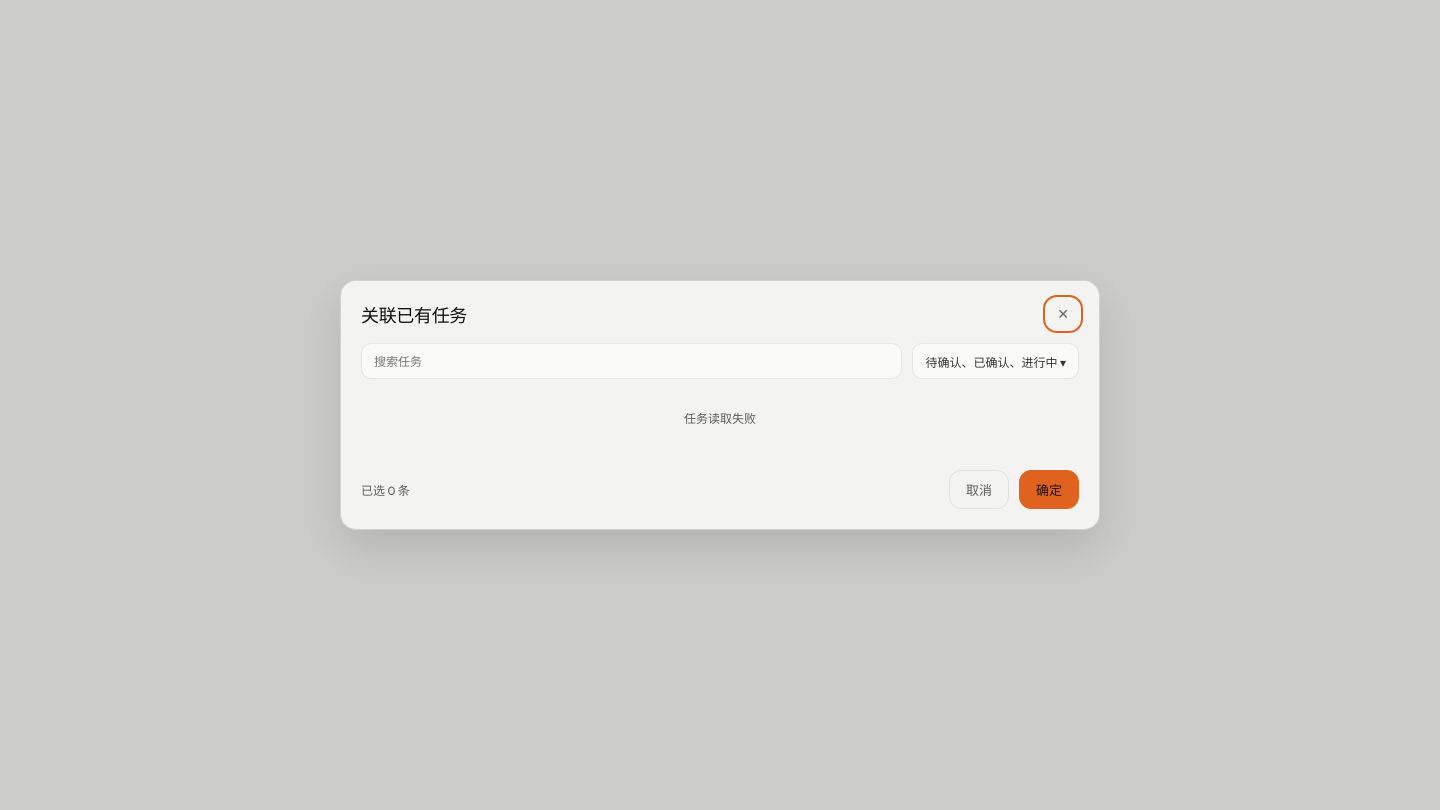
LinkTasksModal › 一次读取失败后换了搜索词：新请求在途时显示「加载中…」，不是还挂着上次的「任务读取失败」
Expected: the text "任务读取失败" is shown, [684,411,756,426]
Type "E" into the field labelled "搜索任务" at (632,361), box [361,343,902,379]
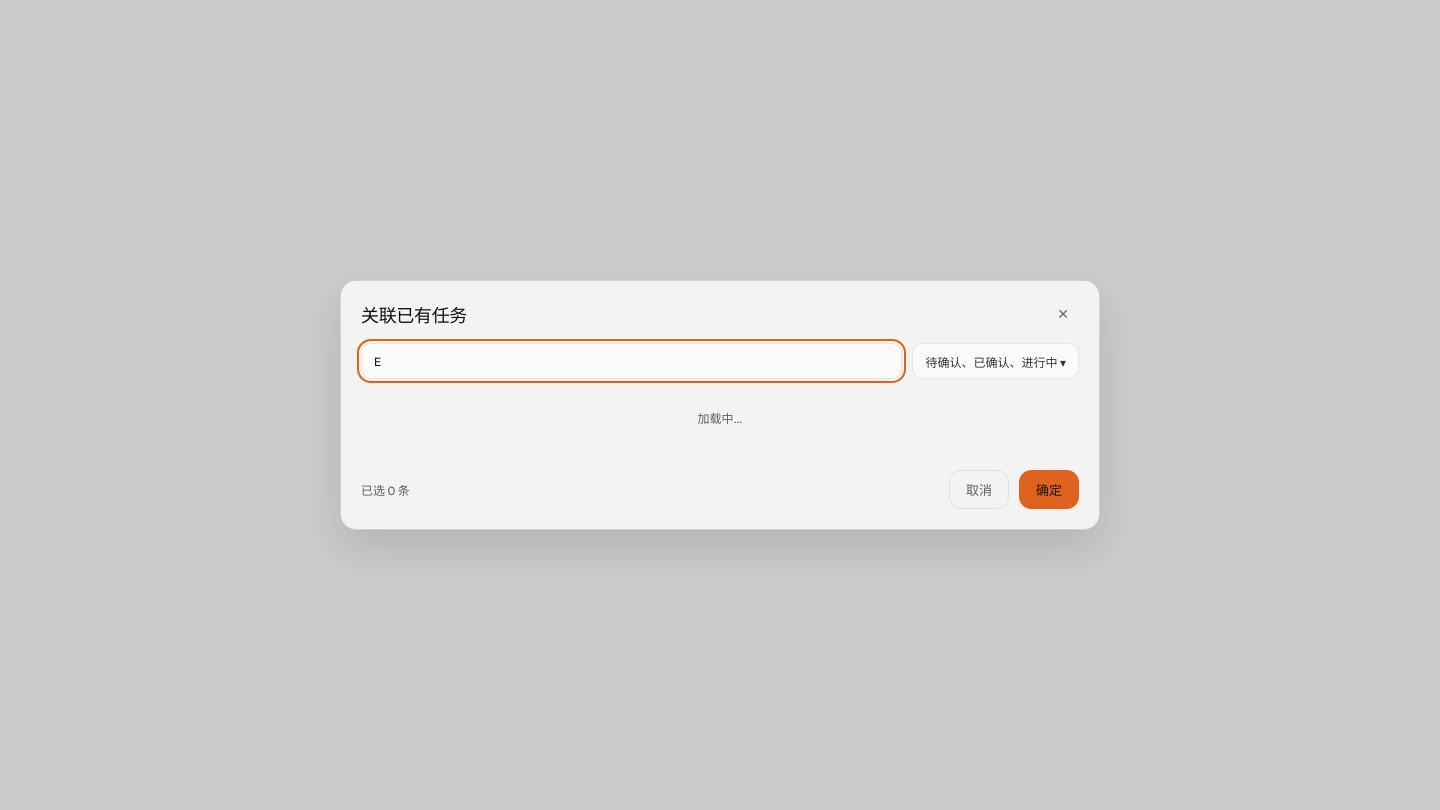
Expected: the text "加载中…" is shown, [698,411,742,426]
Expected: the text "任务读取失败" is gone
